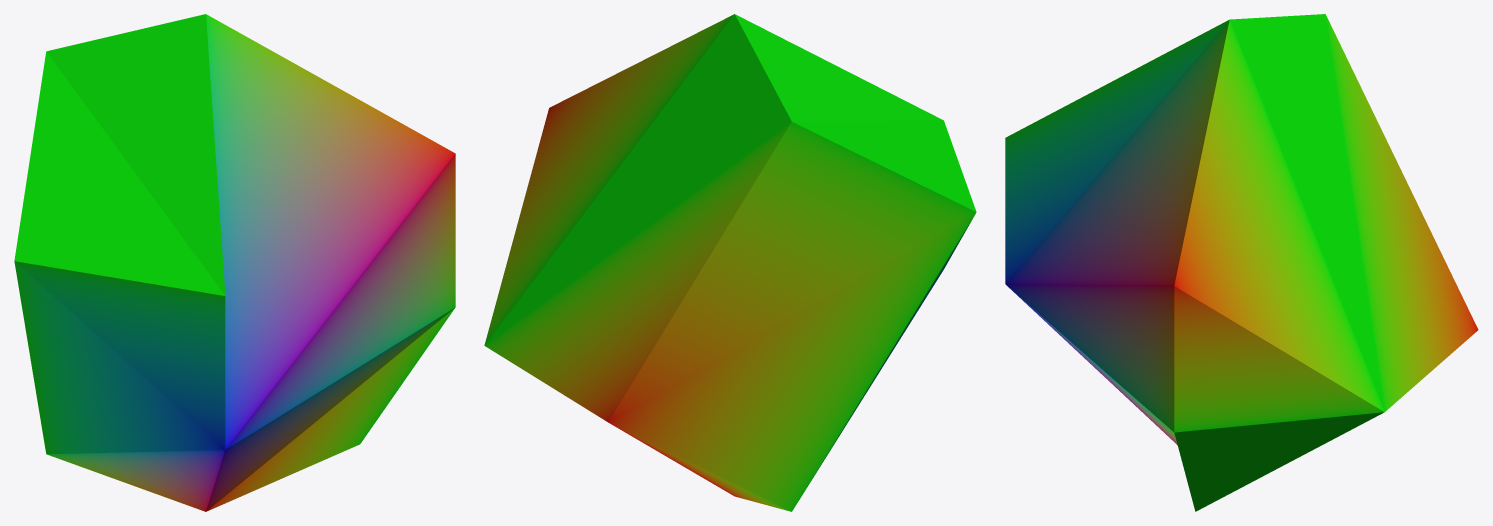
The model's file is all_2.obj.
3 renders of one model, left to right at view 1: azimuth 30°, elevation 25°; view 2: azimuth 150°, elevation 25°; view 3: azimuth 270°, elevation 25°, orthographic. The views are drawn at different scales.
Size of the model in its own units: 1.85 by 2 by 1.81.
